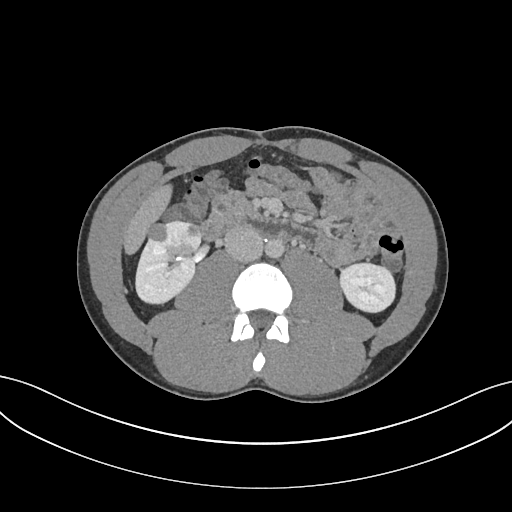Lesion: (143, 216, 170, 245)
